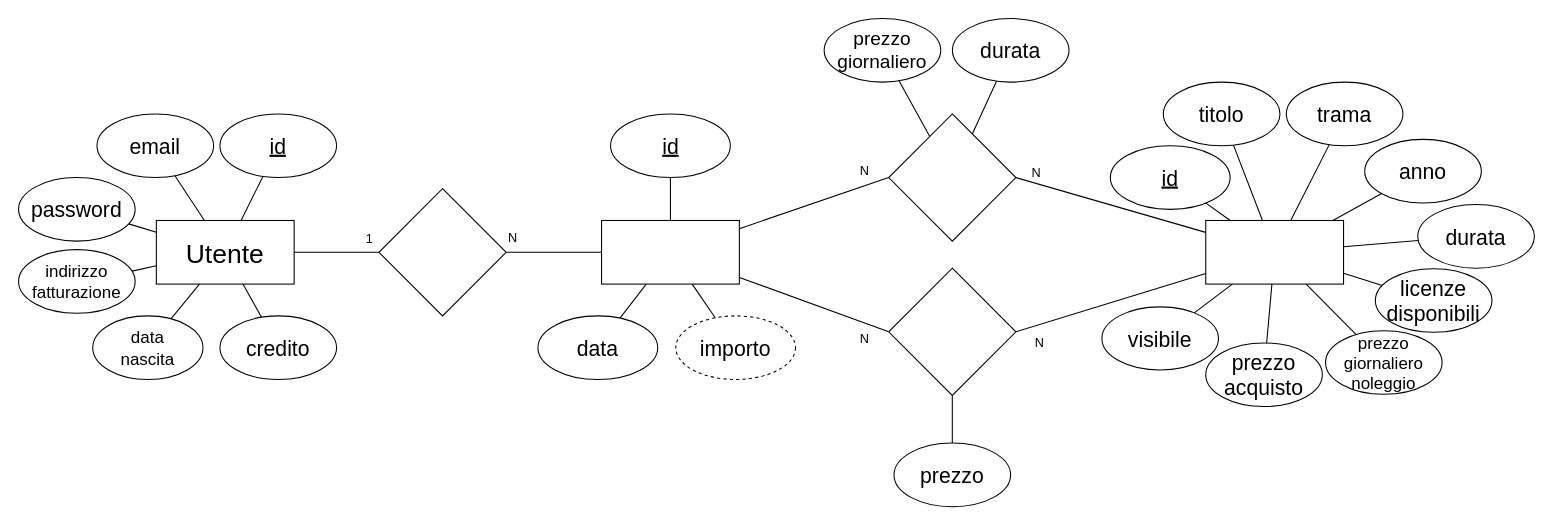
Image size: 1553x526. Some labels were removed from this diagram. The shapes that lost their labels are listed below. From the top down, each one's centre as x and y in pixels, then its label:
the point at 952,177: Noleggio
the point at 442,252: Effettua
the point at 669,251: Ordine
the point at 1274,251: Film
the point at 952,331: Acquisto
